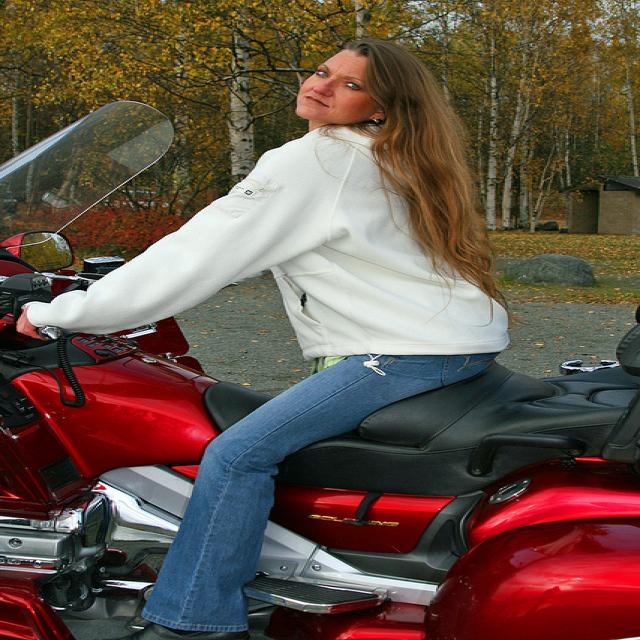motor: (0, 102, 640, 630)
